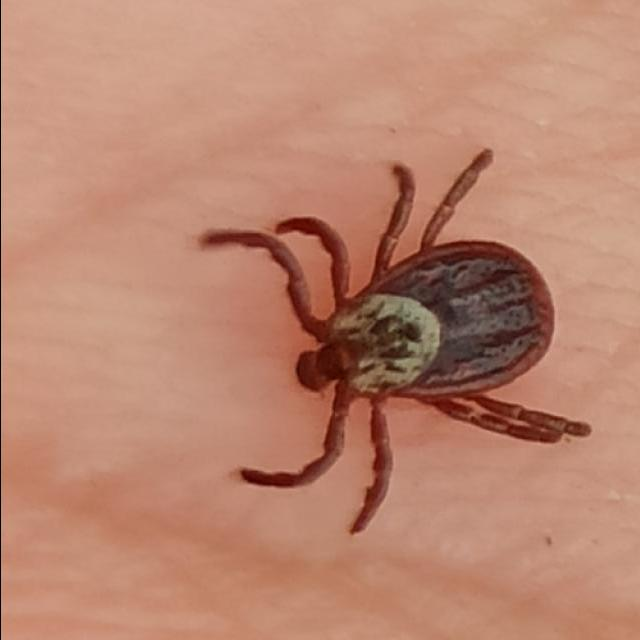Dermacentor Reticulatus-F: (200, 148, 589, 535)
